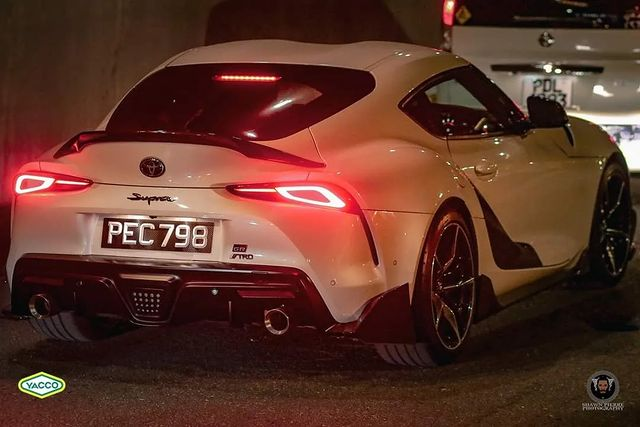License-Plate: (103, 216, 212, 247)
